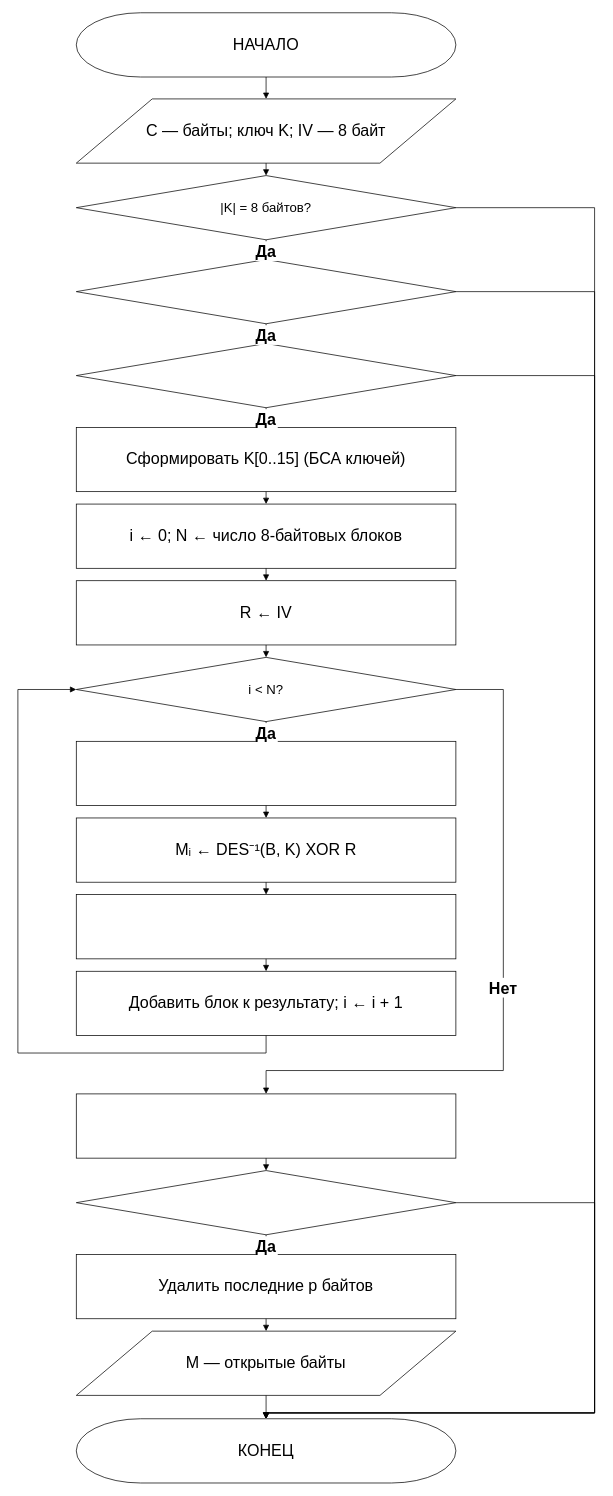
Image size: 613x1496. Some labels were removed from this diagram. The shapes that lost their labels are listed below. From the top down, each one's centre as x and y in pixels, then its label:
At pixel 266 291: "|IV| = 8 байтов?".
At pixel 266 375: "|C| > 0 и |C| mod 8 = 0?".
At pixel 266 773: "B ← очередной 64-битовый блок".
At pixel 266 926: "R ← B".
At pixel 266 1125: "p ← последний байт результата".
At pixel 266 1202: "1 ≤ p ≤ 8 и последние p байтов равны p?".
